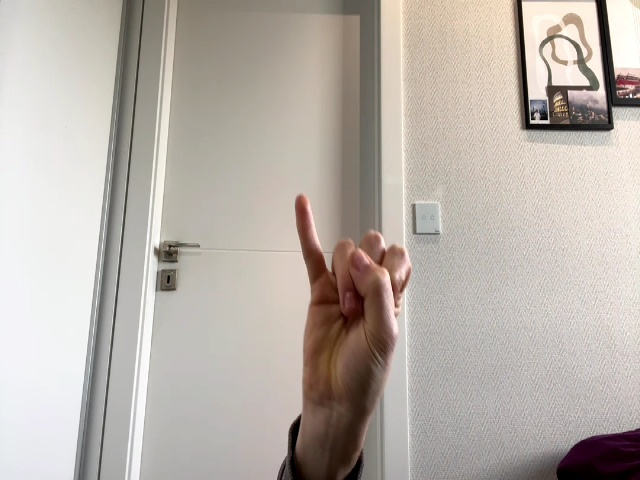I: (295, 193, 412, 412)
